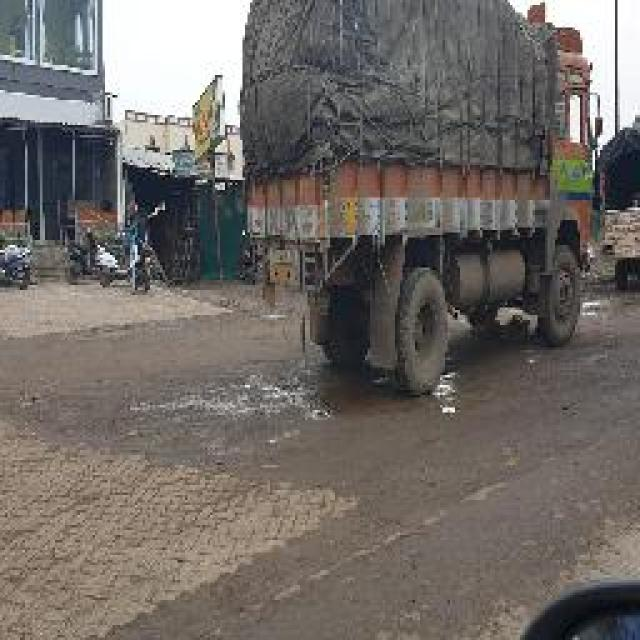stagnation: (120, 373, 323, 438)
